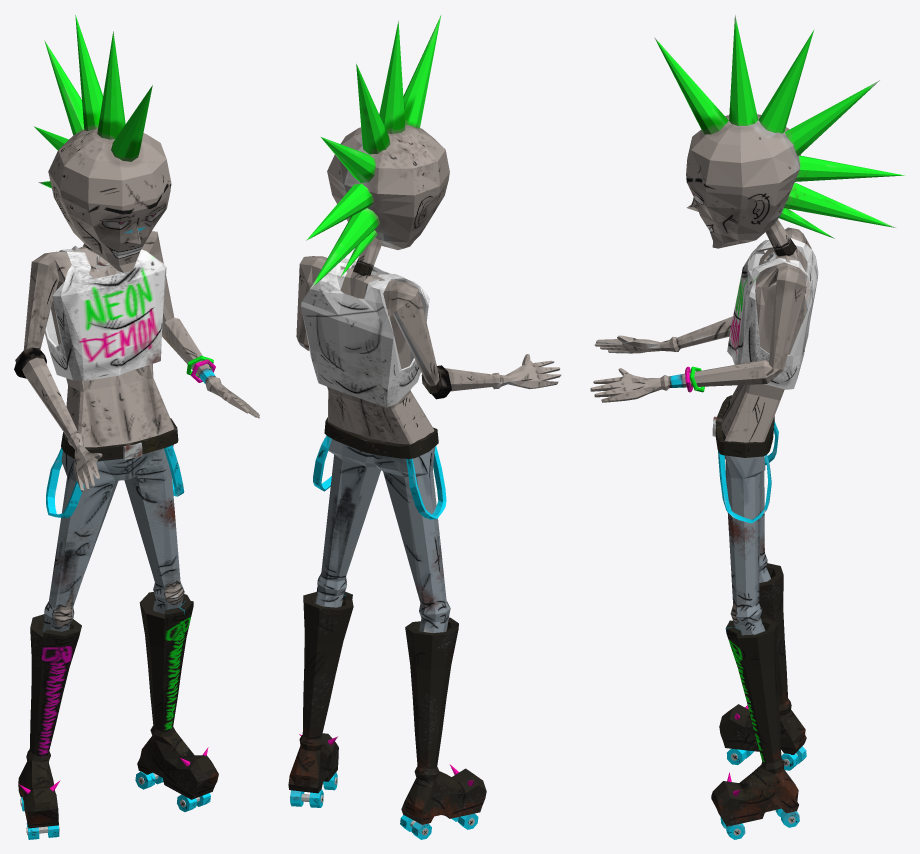
File: punkAnimation_000003.obj
3 renders of one model, left to right at view 1: azimuth 30°, elevation 25°; view 2: azimuth 150°, elevation 25°; view 3: azimuth 270°, elevation 25°, orthographic.
Parts seen in each view (by area): view 1: Cube.004_Cube.003; view 2: Cube.004_Cube.003; view 3: Cube.004_Cube.003.
Boxes of the visible parts, x1,y1,x2,y2 form: Cube.004_Cube.003: (14, 15, 259, 839); Cube.004_Cube.003: (288, 15, 561, 839); Cube.004_Cube.003: (590, 15, 904, 839).
Bounding box in the file's own units: 1.95 × 7.6 × 2.78.
